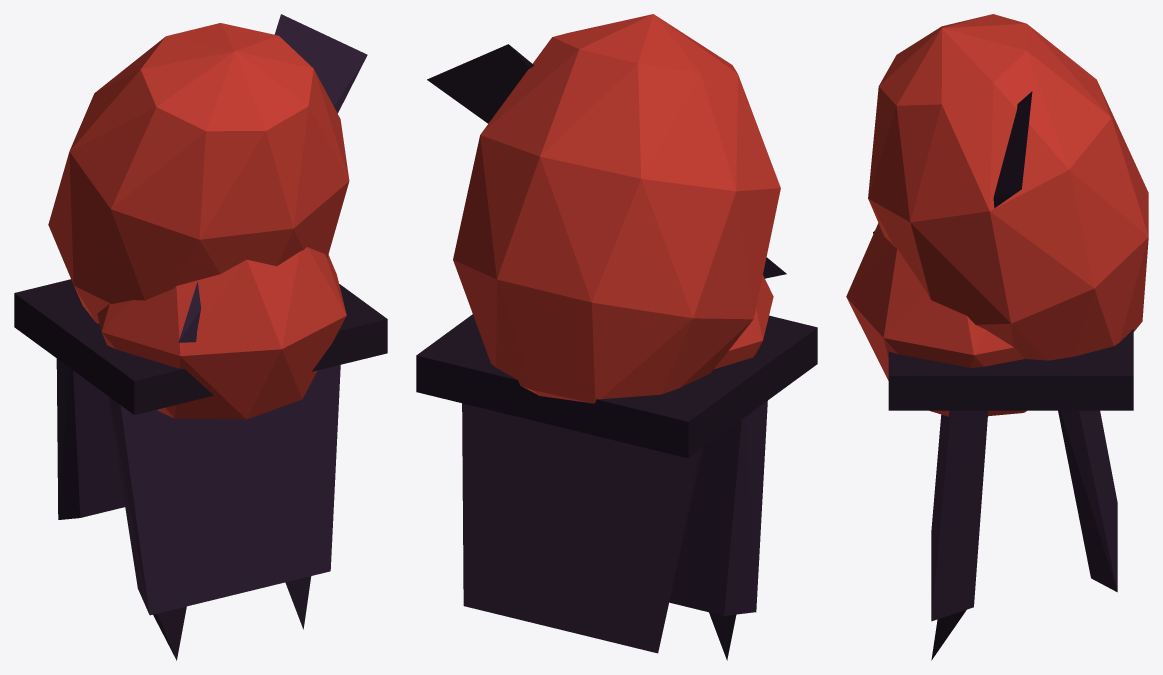
File: goblin_3_body.glb
3 renders of one model, left to right at view 1: azimuth 30°, elevation 25°; view 2: azimuth 150°, elevation 25°; view 3: azimuth 270°, elevation 25°, orthographic. The views are drawn at different scales.
Visible parts, largest first — view 1: goblin_3_body; view 2: goblin_3_body; view 3: goblin_3_body.
Boxes of the visible parts, <box> form: goblin_3_body: <box>14,14,387,660</box>; goblin_3_body: <box>416,14,817,660</box>; goblin_3_body: <box>846,14,1148,660</box>.
Size of the model in its own units: 0.3305 by 0.6235 by 0.2843.
